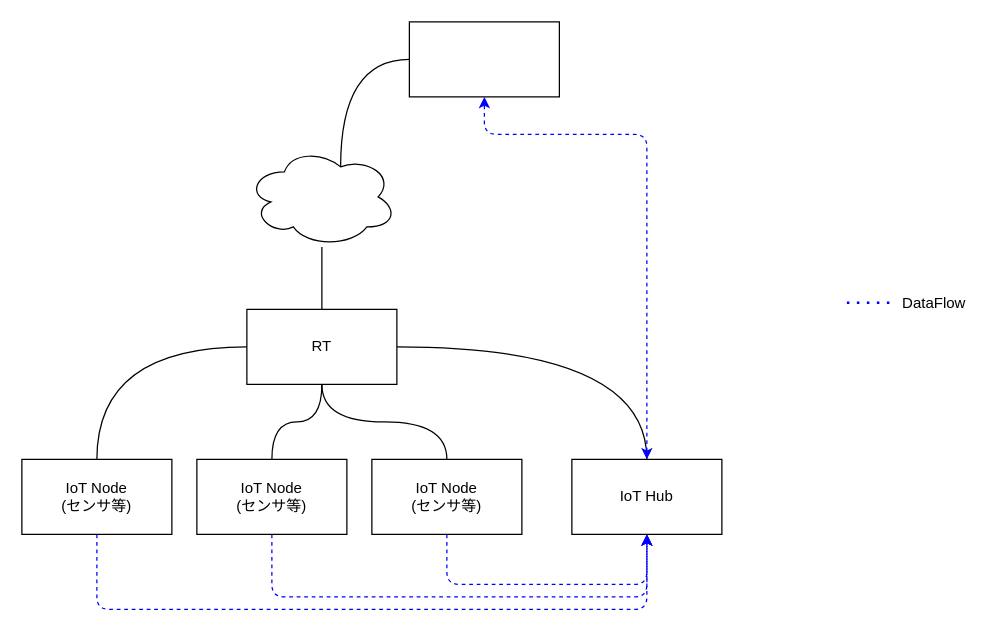
Image size: 994x641. Some labels were removed from this diagram. The shapes that lost their labels are listed below. From the top down, each one's box as (x1, y1, x2, y2) in pixels, then its label:
(408, 21, 559, 97): 連携先サーバ (PublicCloud等)
(246, 146, 397, 247): WAN
